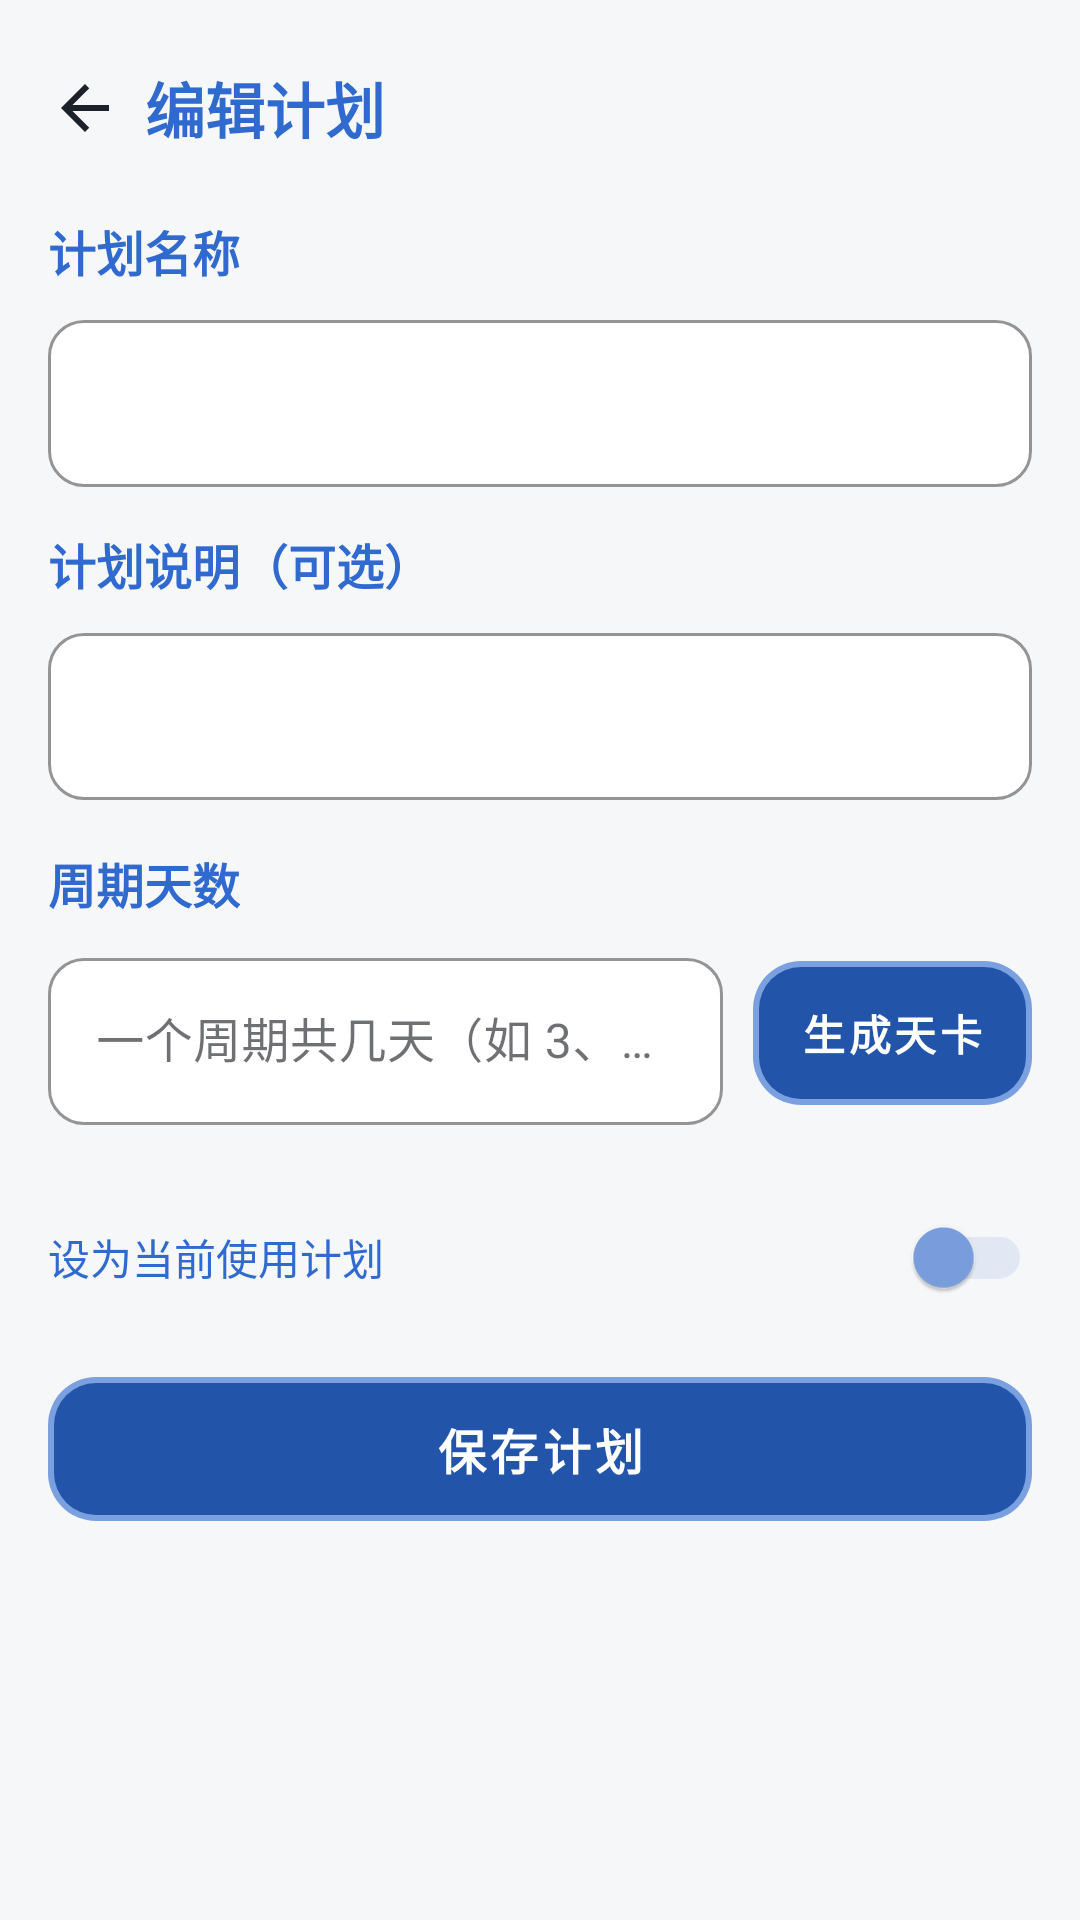

Icon bounding boxes for this 1080x1920 phone screenshot, format {"x1": x1, "y1": y1, "x2": x2, "y2": y2}:
返回: {"x1": 61, "y1": 84, "x2": 109, "y2": 132}
